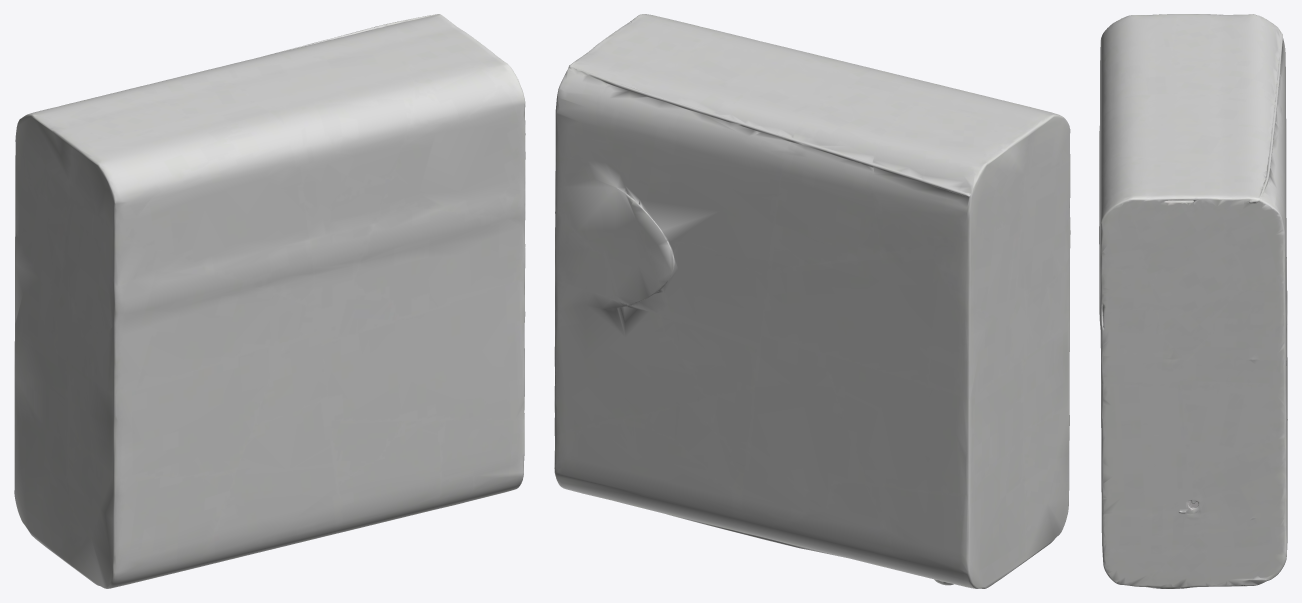
The model's file is purifier.glb.
3 renders of one model, left to right at view 1: azimuth 30°, elevation 25°; view 2: azimuth 150°, elevation 25°; view 3: azimuth 270°, elevation 25°, orthographic. The views are drawn at different scales.
Parts seen in each view (by area): view 1: tripo_node_116dd5e3-1af1-4d72-a4d1-771e7049eb09; view 2: tripo_node_116dd5e3-1af1-4d72-a4d1-771e7049eb09; view 3: tripo_node_116dd5e3-1af1-4d72-a4d1-771e7049eb09.
Boxes of the visible parts, x1=… form: tripo_node_116dd5e3-1af1-4d72-a4d1-771e7049eb09: x1=14, y1=14, x2=525, y2=588; tripo_node_116dd5e3-1af1-4d72-a4d1-771e7049eb09: x1=554, y1=14, x2=1070, y2=588; tripo_node_116dd5e3-1af1-4d72-a4d1-771e7049eb09: x1=1099, y1=14, x2=1287, y2=588.
Bounding box in the file's own units: 1 × 0.9963 × 0.4304.
1 material, 1 textured.
